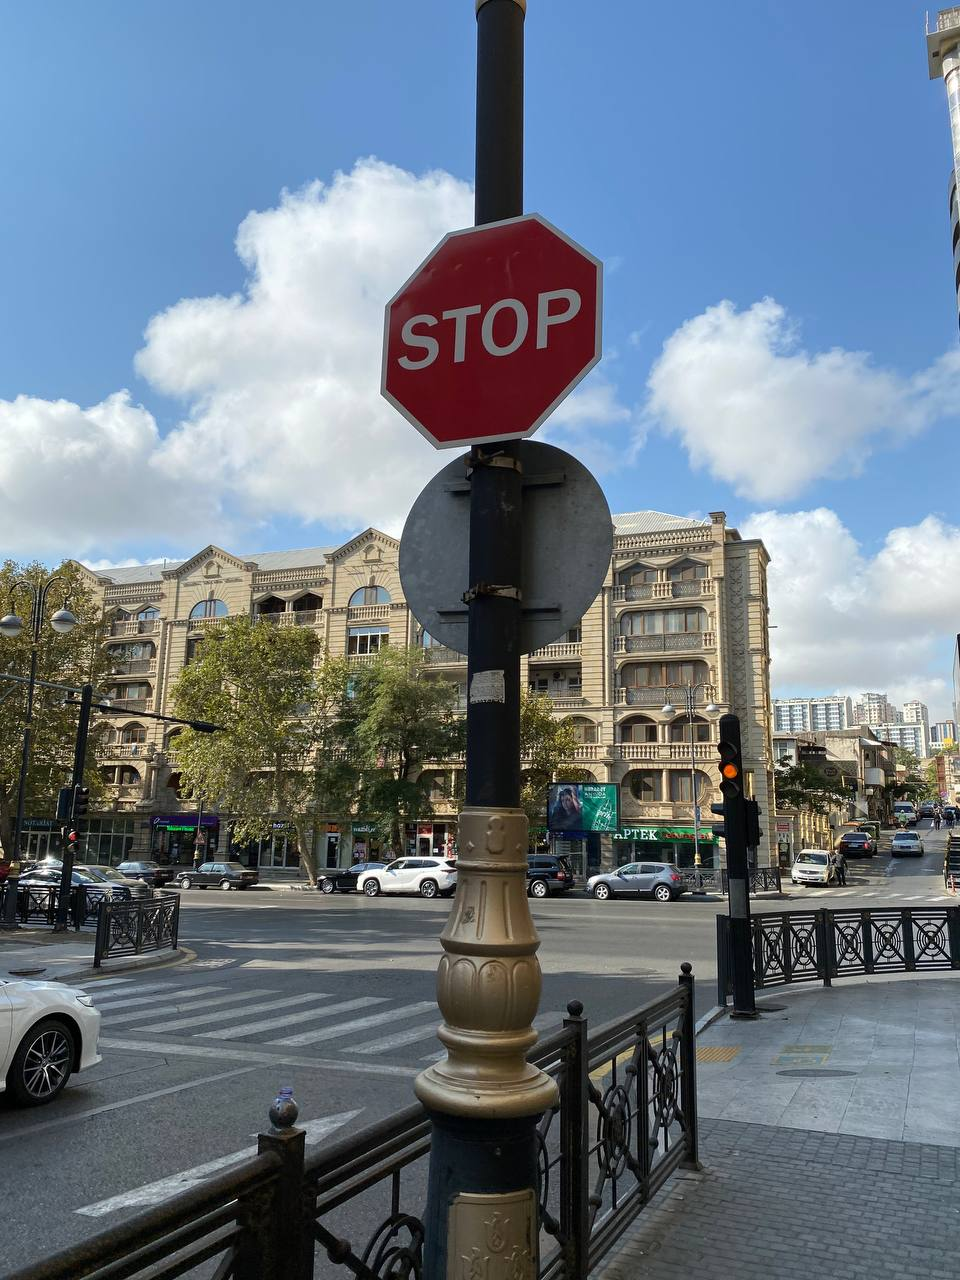STOP: (380, 212, 604, 451)
